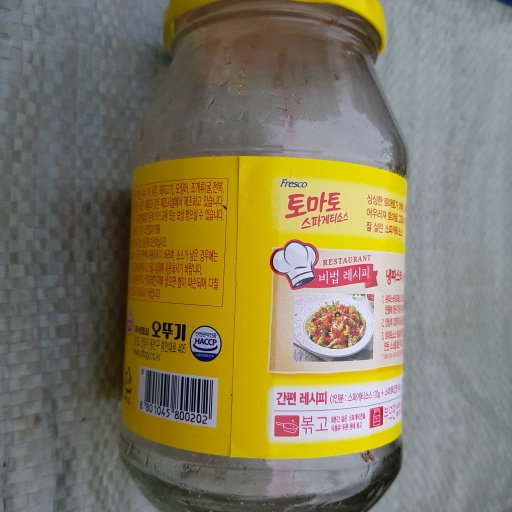Glass_5: (114, 1, 410, 512)
